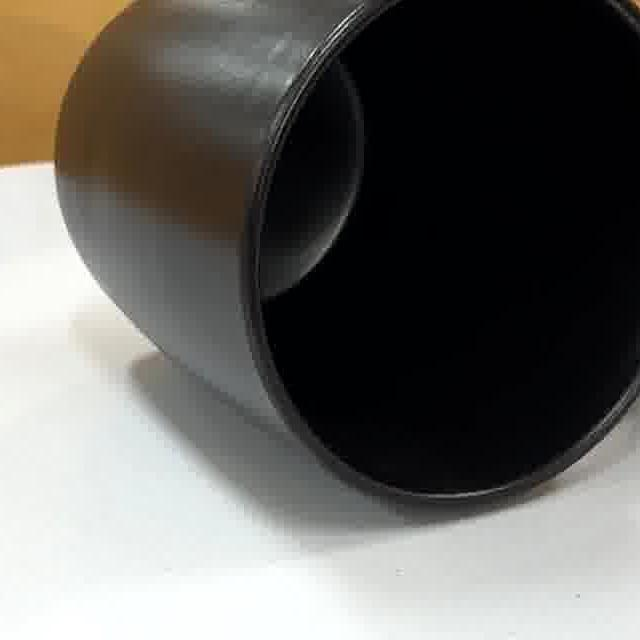cup: (75, 0, 640, 513)
